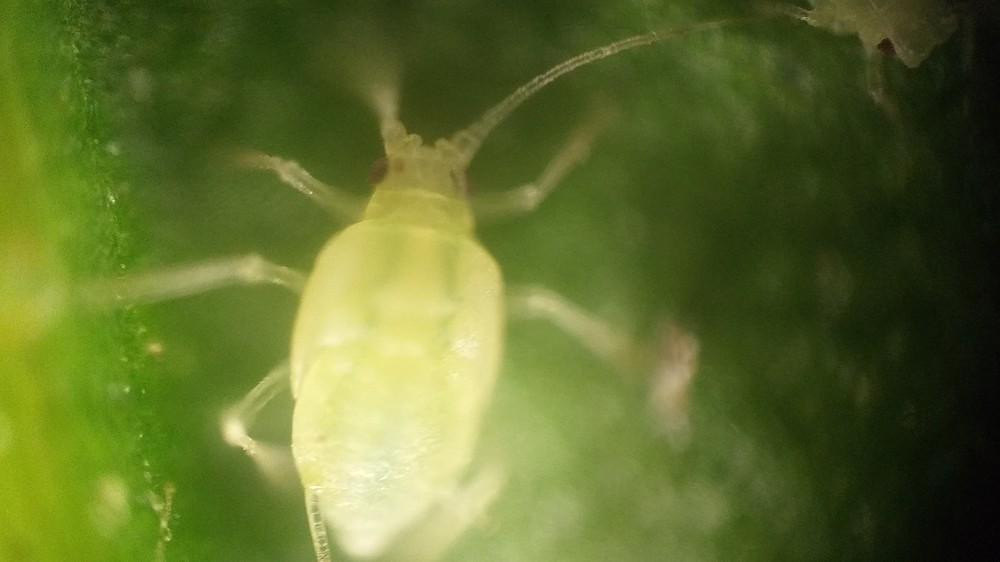Pulgon: (109, 29, 706, 558)
